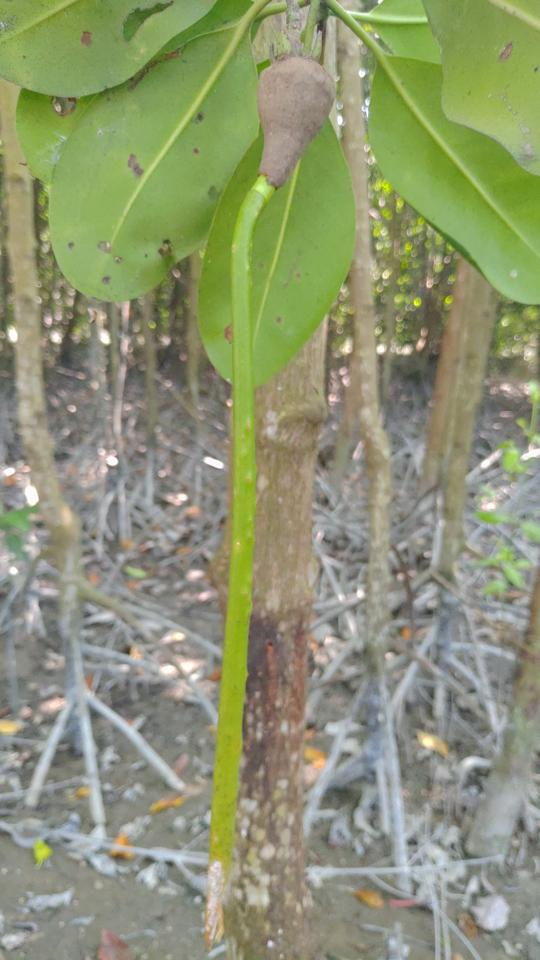setengah matang: (186, 26, 346, 948)
